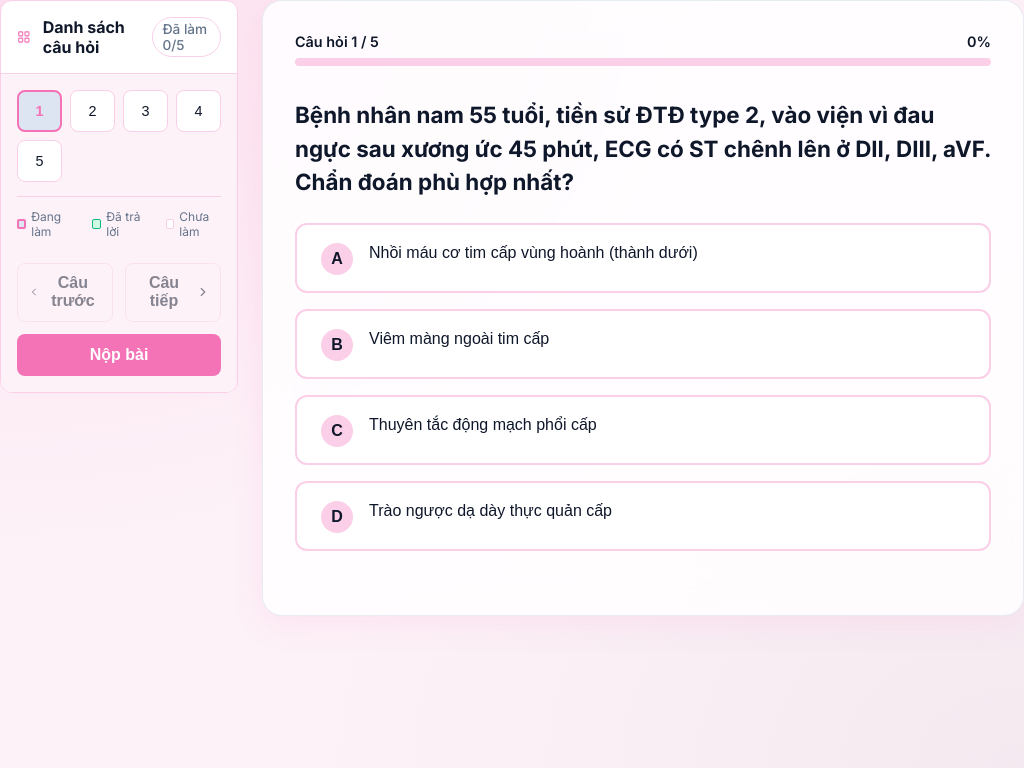
Test: Tier 2: Boundary & Corner Cases › Boundary Group 3: Rapid Interaction & Button State Guards › T2.12: does not advance question index if "Câu tiếp" is clicked multiple times rapidly
# Answer question 1
Click the radio button "Nhồi máu cơ tim cấp vùng hoành (thành dưới)" at (643, 258), box [295,223,991,293]
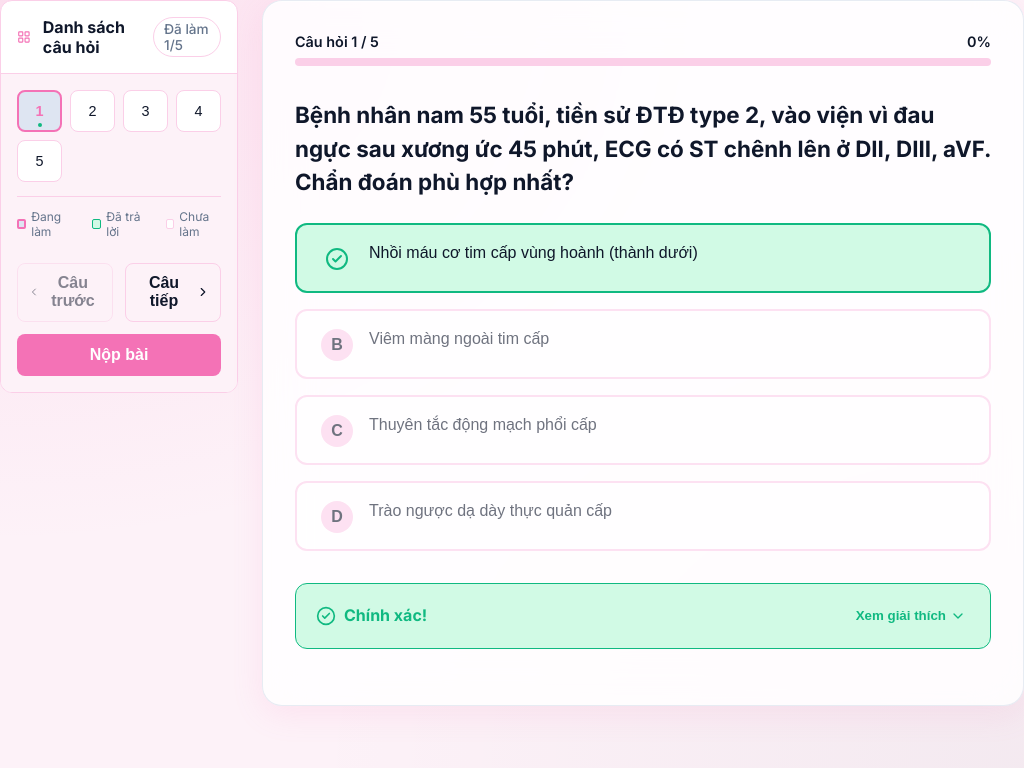
# Click next
Click the button "Câu tiếp" at (173, 292), box [125,263,221,322]
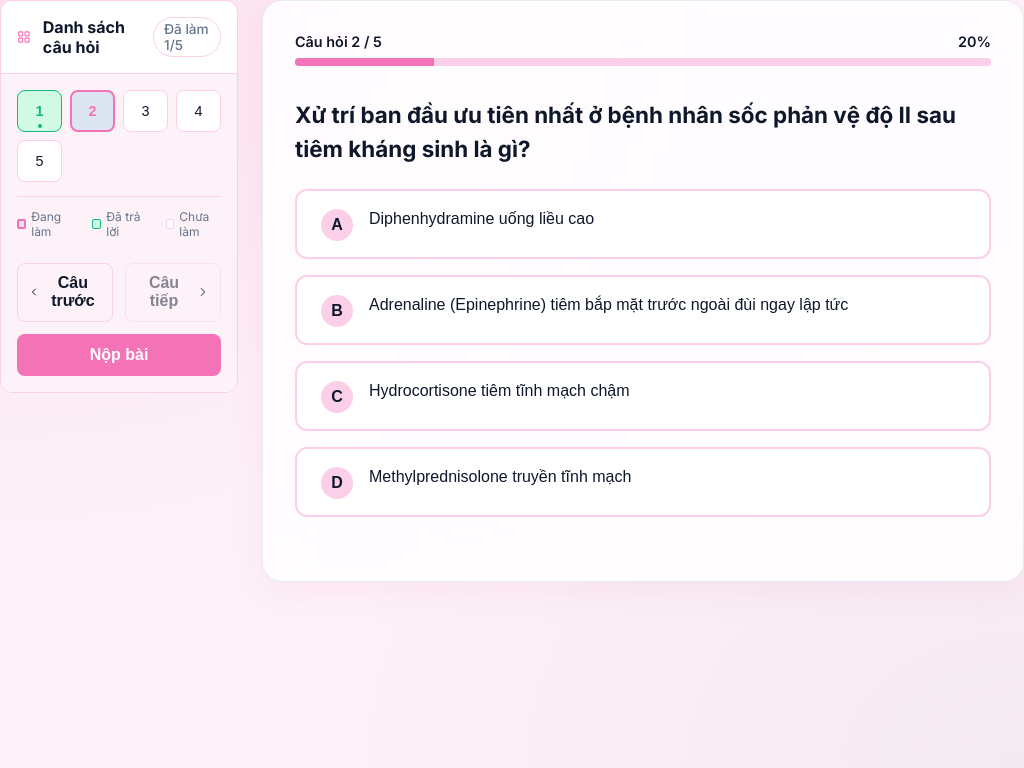
Now the text "Câu hỏi 2 / 5" is shown, box [295,33,382,50]
Now the button "Câu tiếp" is disabled, box [125,263,221,322]
